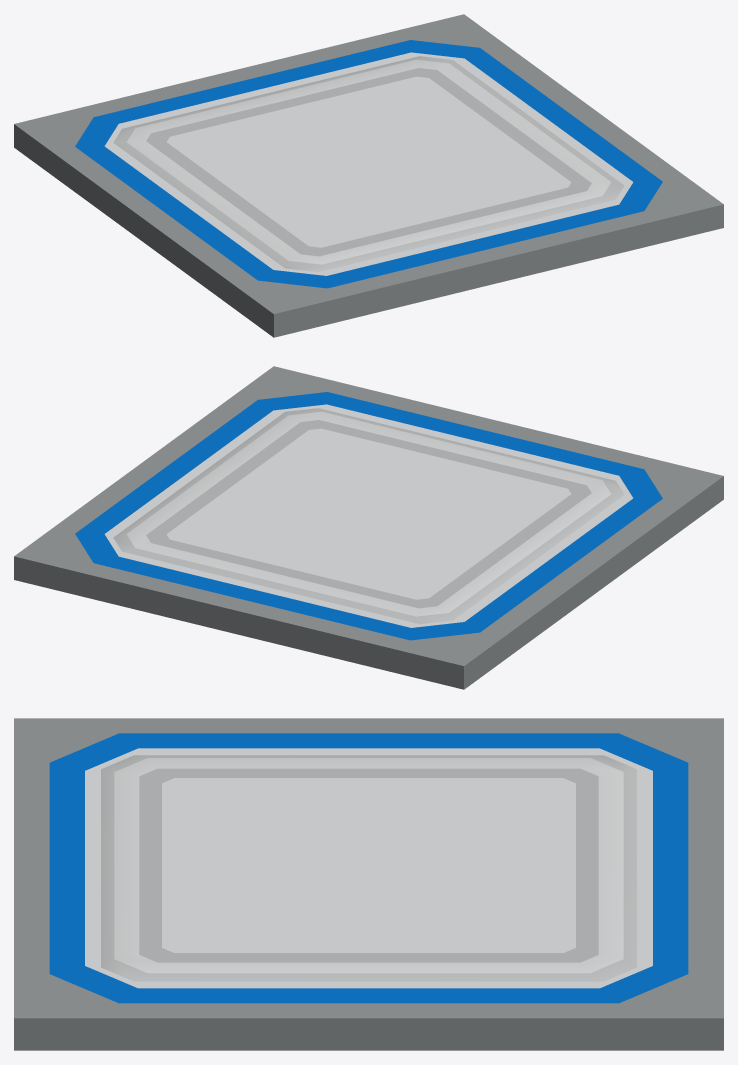
The model's file is Platform_001.glb.
3 renders of one model, top to bottom at view 1: azimuth 30°, elevation 25°; view 2: azimuth 150°, elevation 25°; view 3: azimuth 270°, elevation 25°, orthographic. The views are drawn at different scales.
Parts seen in each view (by area): view 1: Platform_001; view 2: Platform_001; view 3: Platform_001.
Part boxes in pixels (bbox=[...]): Platform_001: bbox=[14, 14, 723, 337]; Platform_001: bbox=[14, 366, 723, 689]; Platform_001: bbox=[14, 718, 723, 1050].
Size of the model in its own units: 4 by 0.2345 by 4.
2 materials, 2 textured.
